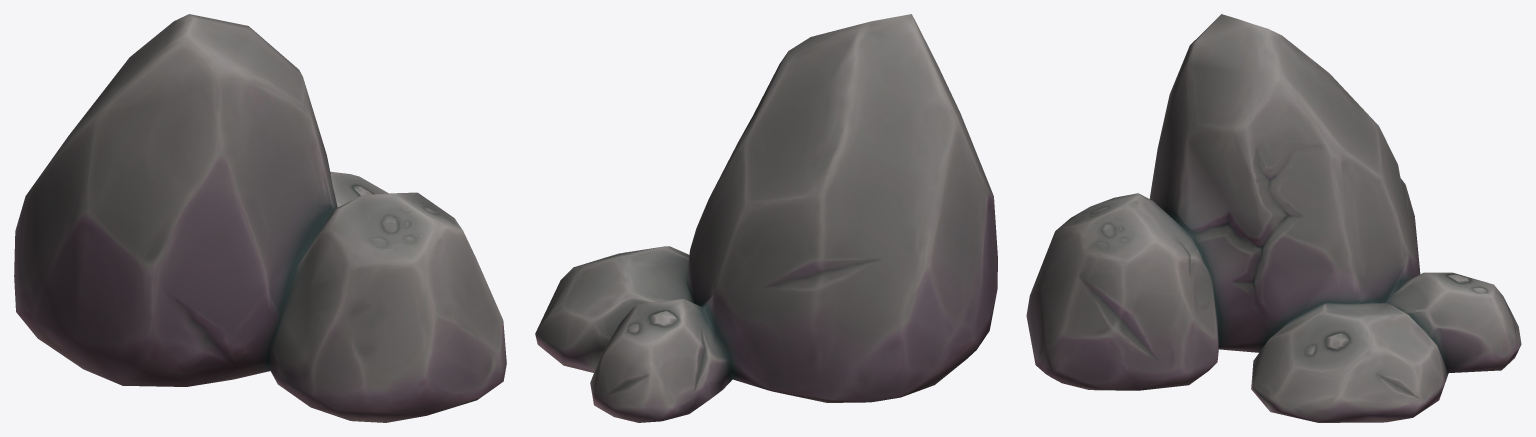
3 renders of one model, left to right at view 1: azimuth 30°, elevation 25°; view 2: azimuth 150°, elevation 25°; view 3: azimuth 270°, elevation 25°, orthographic. The views are drawn at different scales.
Parts seen in each view (by area): view 1: Rocks_v02_LP2:Group11652; view 2: Rocks_v02_LP2:Group11652; view 3: Rocks_v02_LP2:Group11652.
Part boxes in pixels (bbox=[...]): Rocks_v02_LP2:Group11652: bbox=[14, 14, 506, 422]; Rocks_v02_LP2:Group11652: bbox=[535, 14, 997, 422]; Rocks_v02_LP2:Group11652: bbox=[1026, 14, 1521, 422].
Bounding box in the file's own units: 1.64 × 1.3 × 2.
Materials: 1 (1 with a texture image).
